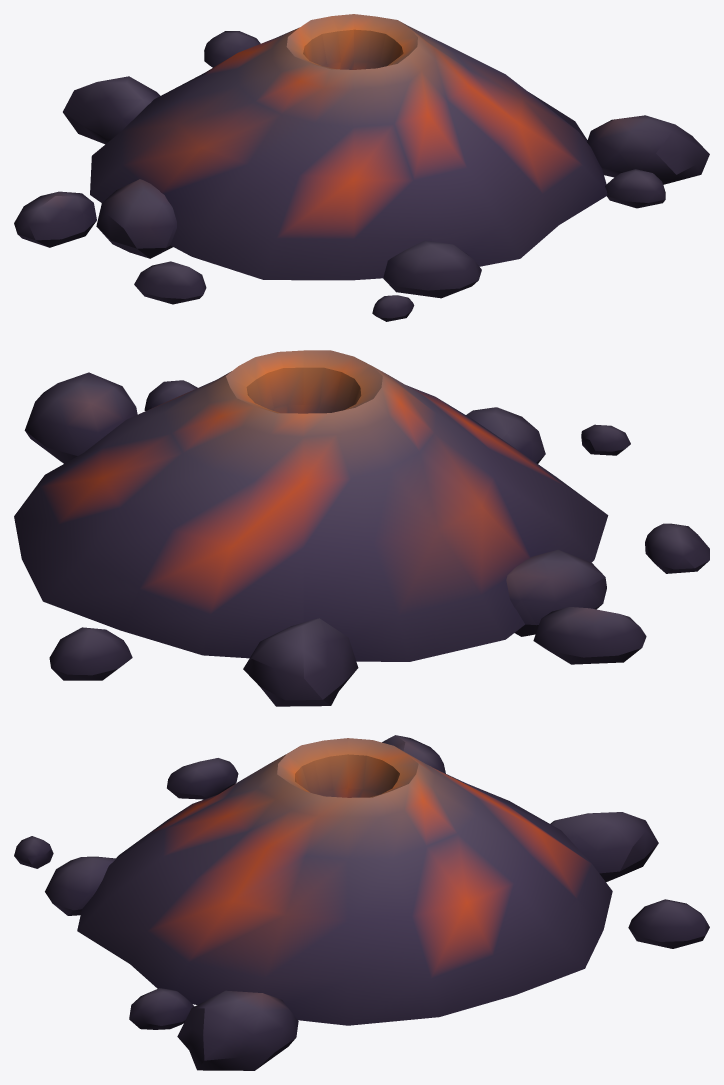
Rendered from ember_misc_steam_vent_a.glb.
3 renders of one model, top to bottom at view 1: azimuth 30°, elevation 25°; view 2: azimuth 150°, elevation 25°; view 3: azimuth 270°, elevation 25°, orthographic. The views are drawn at different scales.
Visible parts, largest first — view 1: ember_misc_steam_vent_a; view 2: ember_misc_steam_vent_a; view 3: ember_misc_steam_vent_a.
Part boxes in pixels (x1,y1,x2,y2): ember_misc_steam_vent_a: [14, 14, 709, 321]; ember_misc_steam_vent_a: [14, 350, 709, 706]; ember_misc_steam_vent_a: [14, 735, 709, 1070].
Size of the model in its own units: 9.34 by 2.2 by 8.8.
